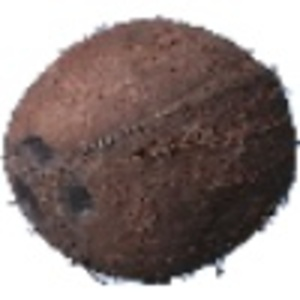coco: (4, 17, 300, 287)
